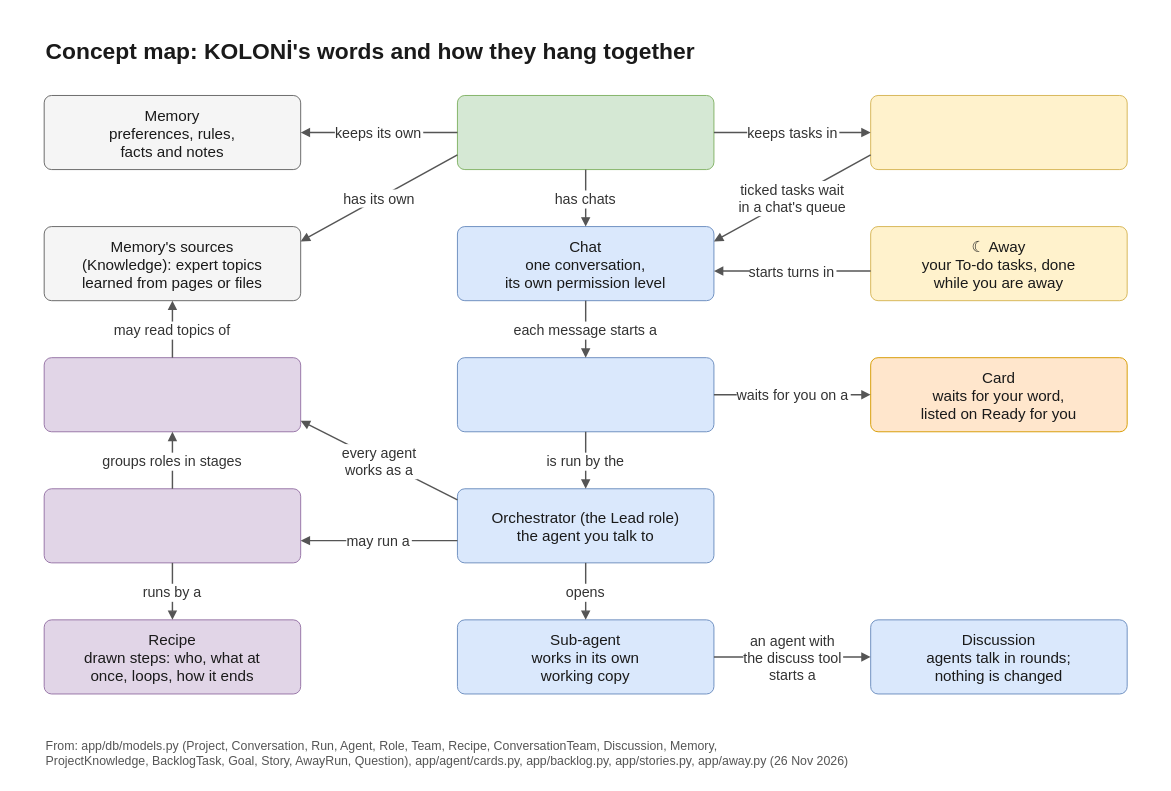
Image size: 1171x791. Some labels were removed from this diagram. The shapes that lost their labels are listed below. From the top down, each one's centre as x and y in pixels, then its label:
point 585,132: Project a folder of yours
point 998,132: To-do story › task or bug
point 172,394: Role what an agent is for: instructions, tools, model
point 585,394: Turn a message and its work
point 172,525: Team roles in stages (Plan, Build, Check, ...)
